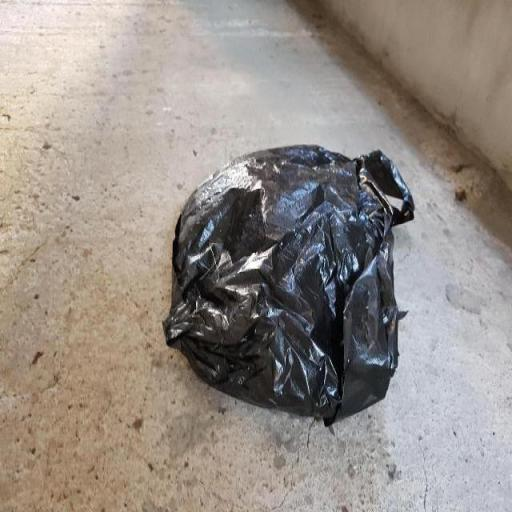plastic-bag: (159, 143, 419, 423)
